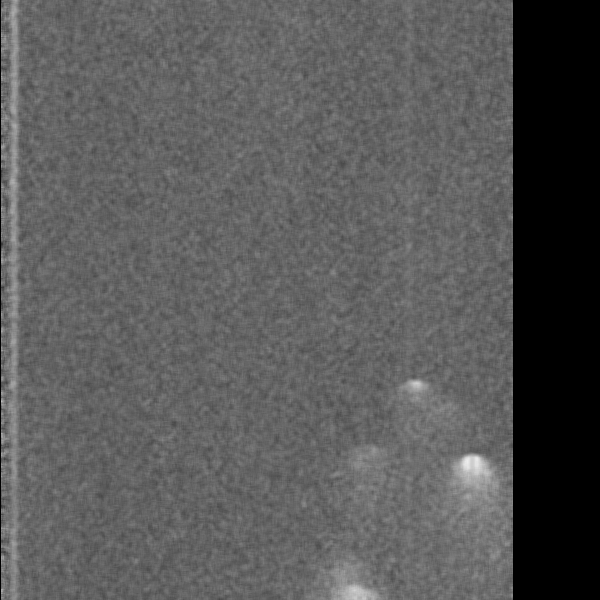spark: (433, 447, 511, 549), (325, 578, 385, 600), (399, 374, 430, 415), (346, 439, 369, 468), (433, 399, 447, 418)
